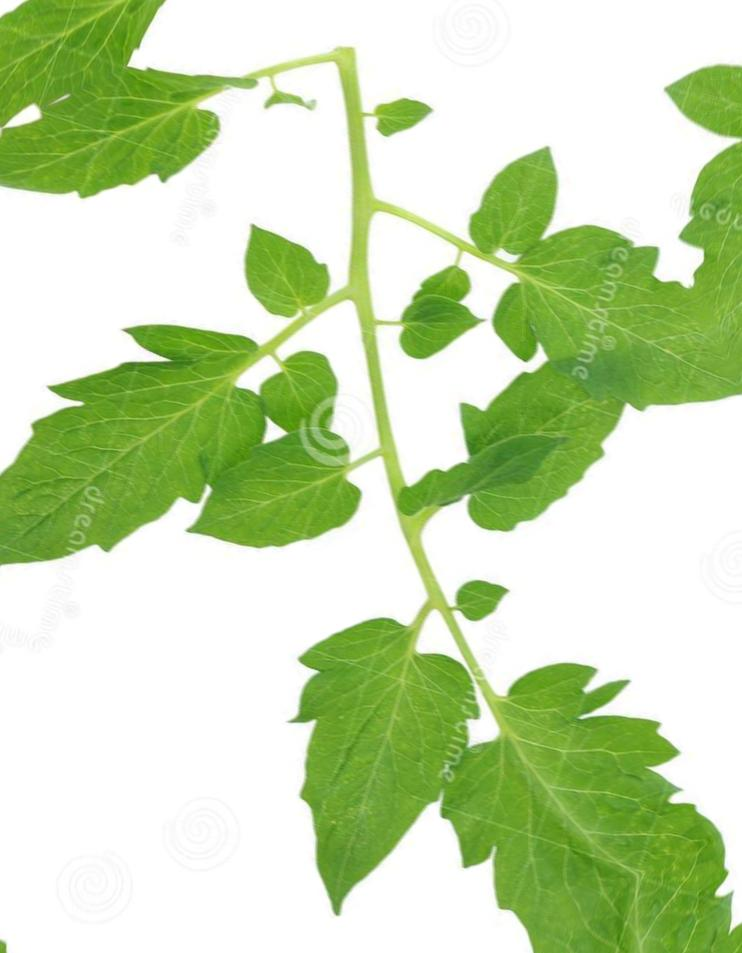Tomato leaf: (170, 534, 568, 944), (402, 578, 742, 940), (0, 275, 312, 594), (464, 174, 742, 513), (0, 25, 278, 303), (400, 324, 673, 591), (127, 375, 408, 616)
